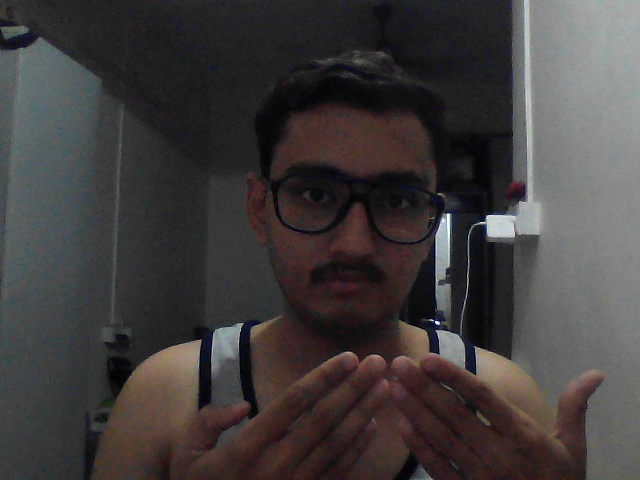Thank You: (156, 341, 627, 480)
